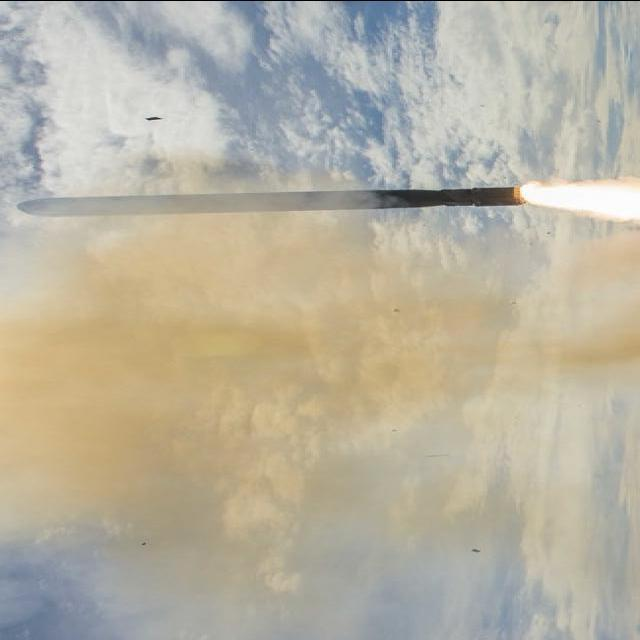missile: (20, 182, 537, 222)
